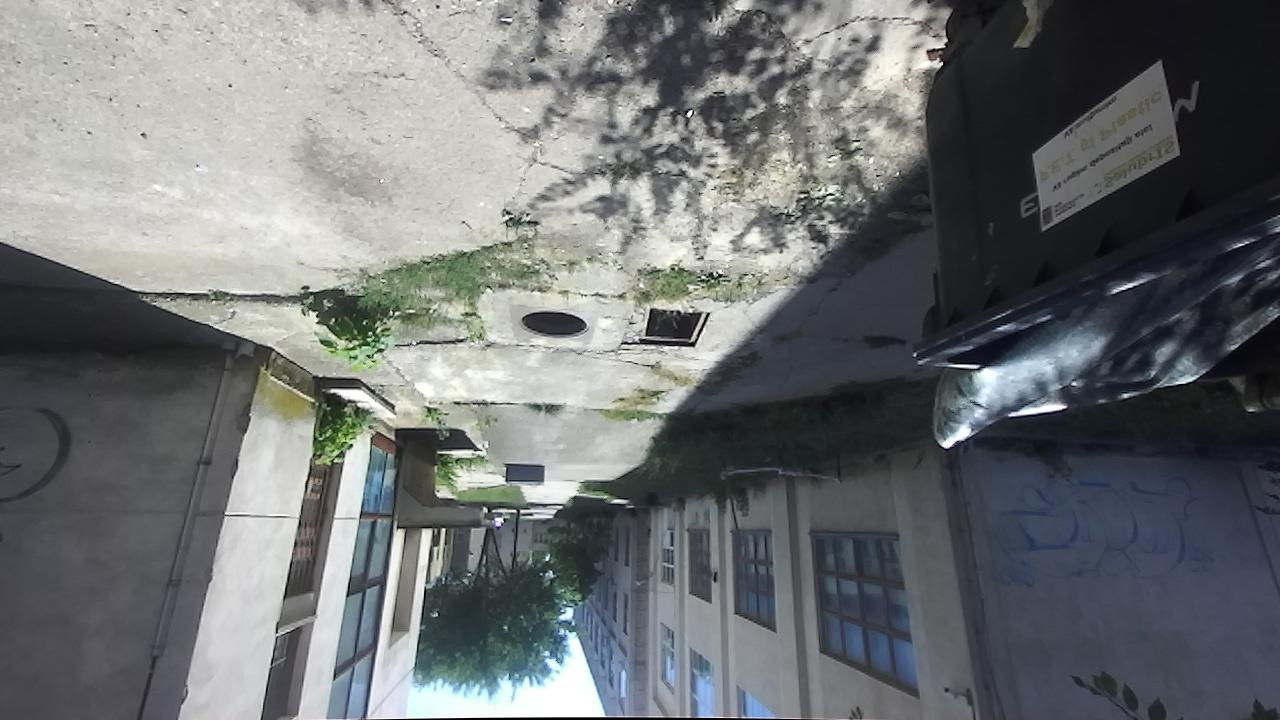drain: (637, 308, 714, 350), (514, 307, 594, 344)
